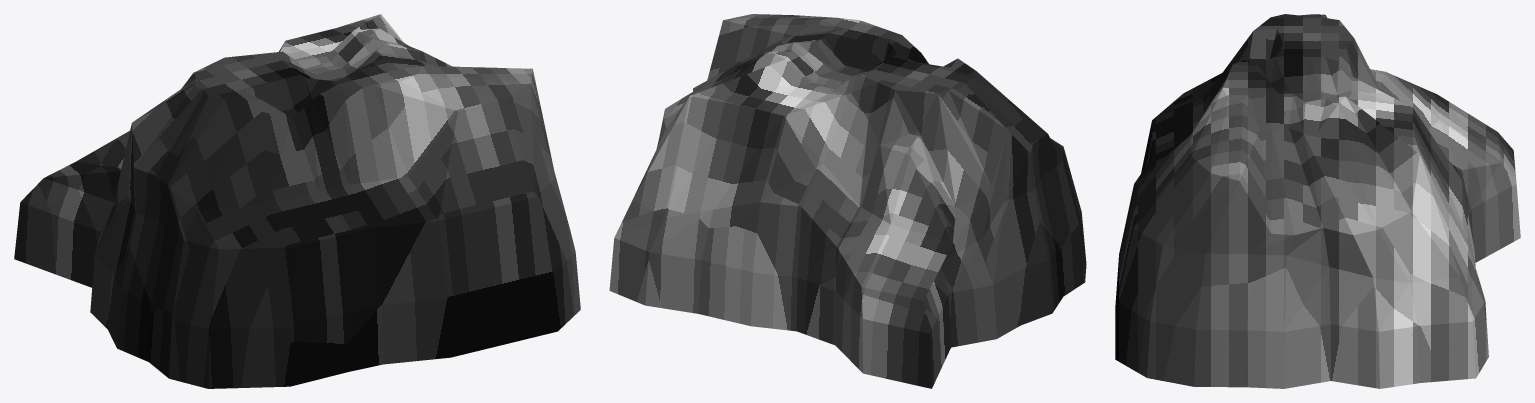
File: Rock_341x03.gltf
3 views of the same model, side by side, from view 1: azimuth 30°, elevation 25°; view 2: azimuth 150°, elevation 25°; view 3: azimuth 270°, elevation 25° (orthographic). The views are drawn at different scales.
Parts seen in each view (by area): view 1: Rock_341x03; view 2: Rock_341x03; view 3: Rock_341x03.
Boxes of the visible parts, <box> form: Rock_341x03: <box>14,14,580,388</box>; Rock_341x03: <box>609,14,1086,388</box>; Rock_341x03: <box>1115,14,1520,388</box>.
Bounding box in the file's own units: 2.02 × 1.1 × 1.8.
1 material, 1 textured.
